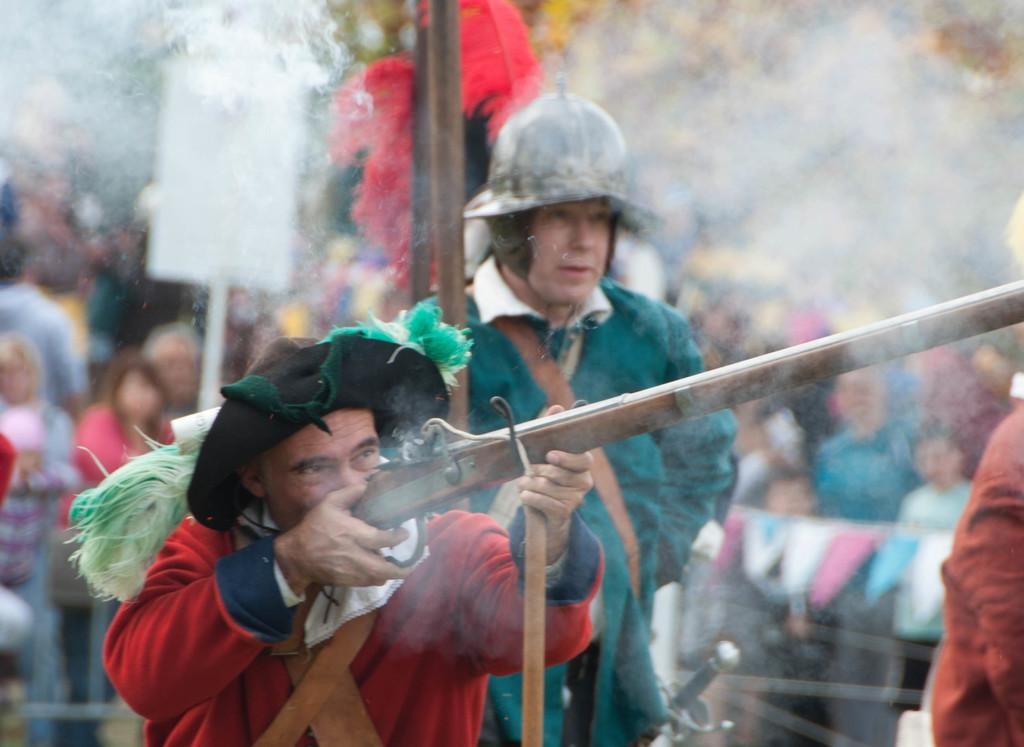Hat: (187, 326, 453, 531)
